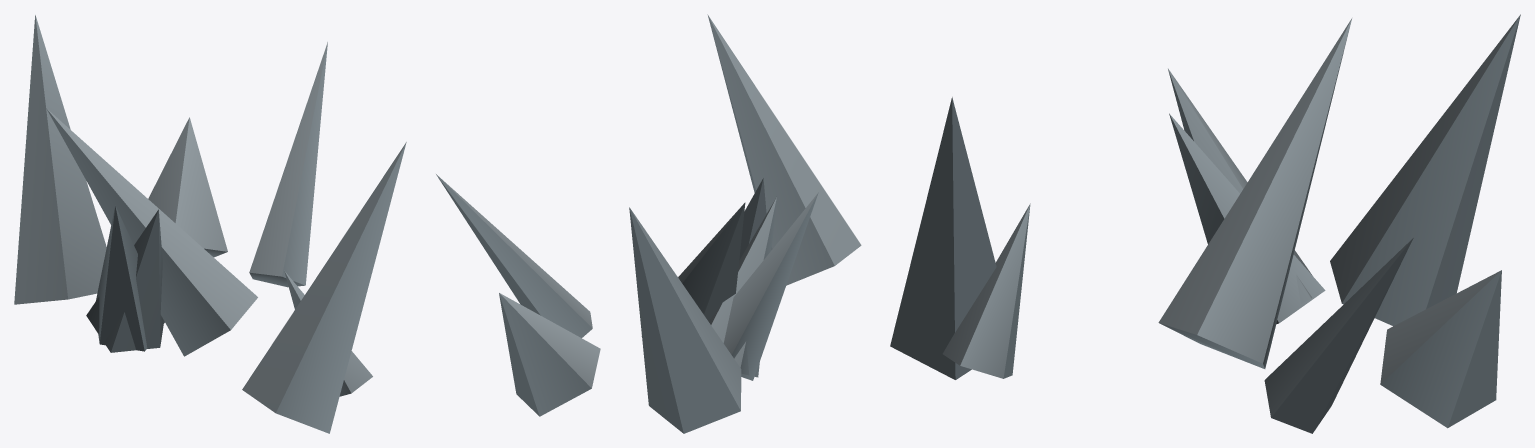
The model's file is iceshard.glb.
The picture shows the model from 3 angles, left to right: view 1: azimuth 30°, elevation 25°; view 2: azimuth 150°, elevation 25°; view 3: azimuth 270°, elevation 25°; orthographic projection. The views are drawn at different scales.
Parts seen in each view (by area): view 1: v0, v1; view 2: v1, v0; view 3: v0, v1.
Part boxes in pixels (<box>): v0: <box>46,42,406,433</box>; v1: <box>14,15,372,396</box>; v1: <box>499,178,818,433</box>; v0: <box>436,14,861,377</box>; v0: <box>890,18,1413,433</box>; v1: <box>942,14,1520,428</box>.
Bounding box in the file's own units: 0.5013 × 0.3988 × 0.6845.
